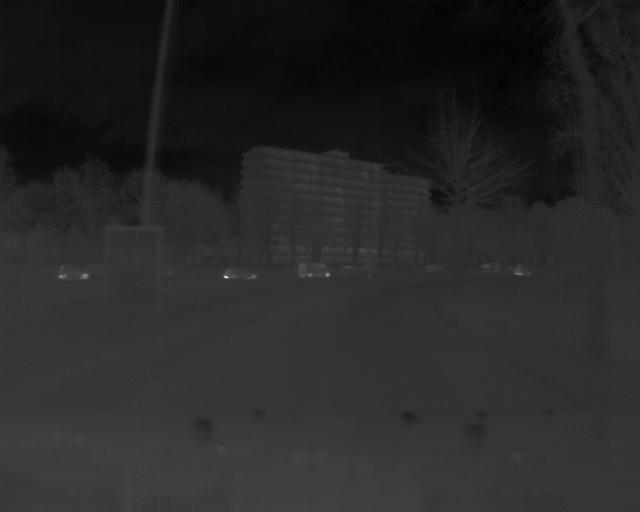car: (296, 258, 333, 280), (55, 264, 92, 283), (223, 265, 260, 280)
